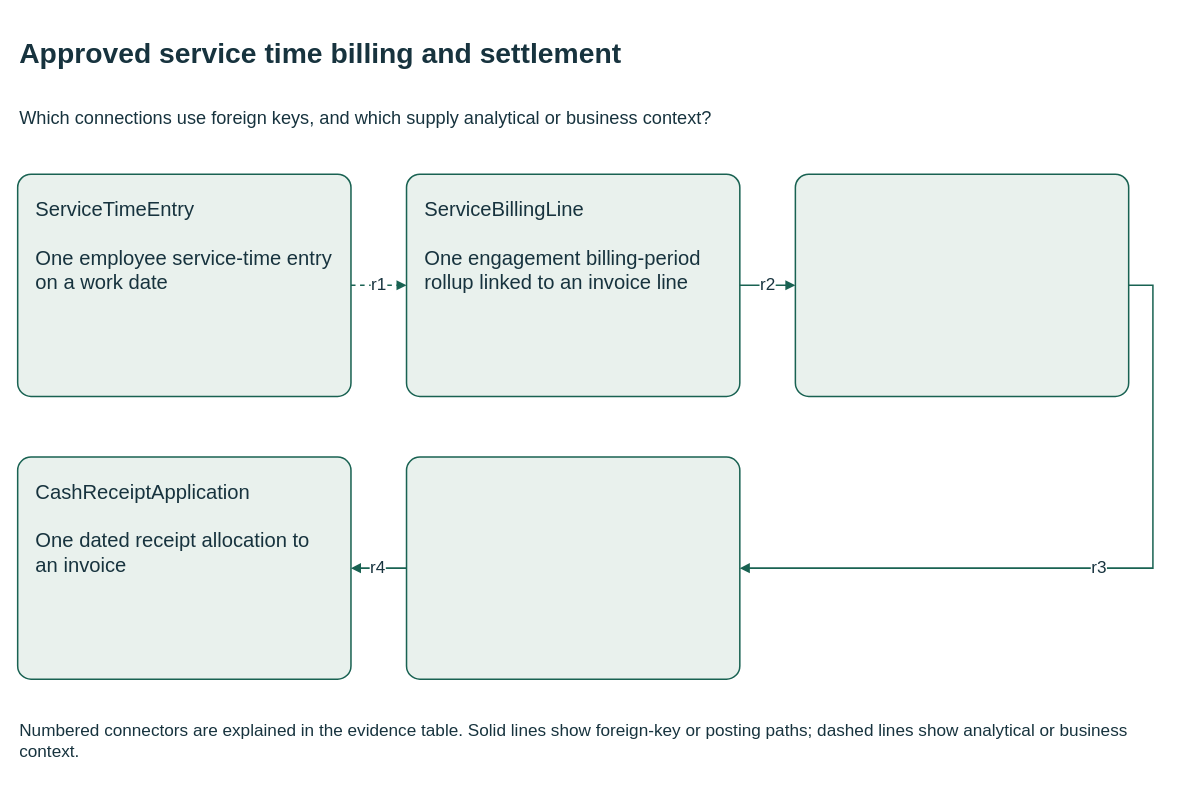
Image size: 1180x789. Some labels were removed from this diagram. The centre of each missing label's shape, as x and y in pixels:
"SalesInvoice One customer invoice header" goes at pixel 572 568.
"SalesInvoiceLine One billed goods or service line" goes at pixel 961 285.
